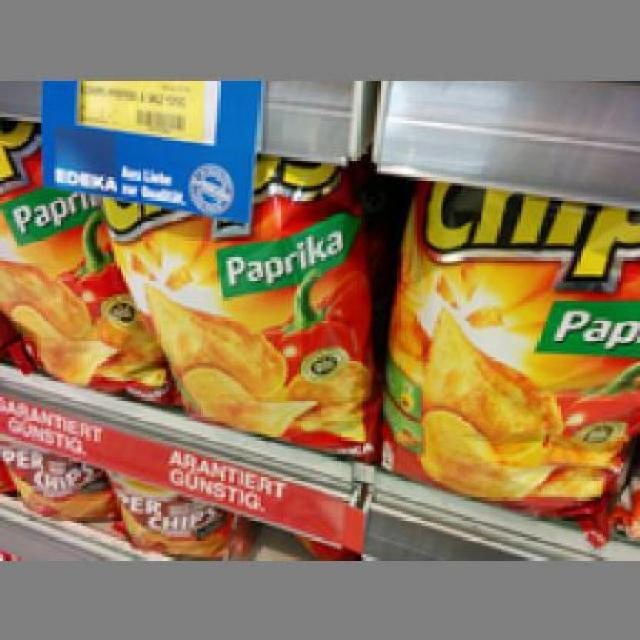Chips: (380, 173, 637, 532), (94, 143, 376, 451)
